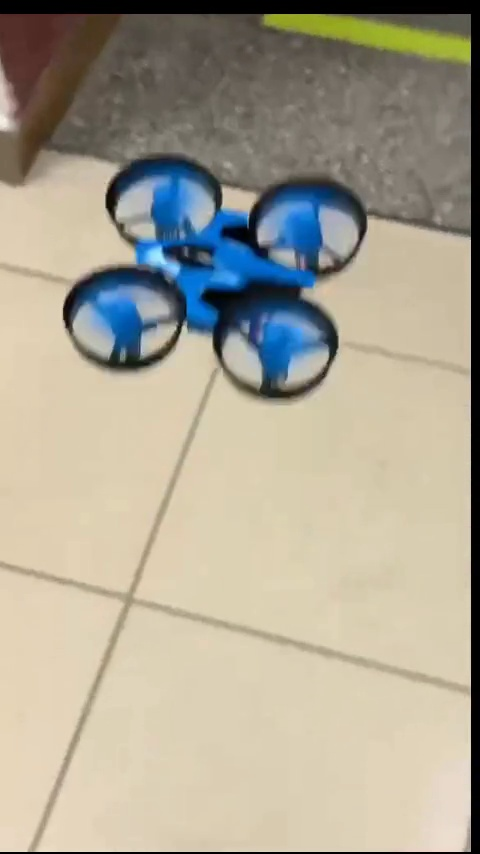drone: (62, 162, 357, 394)
